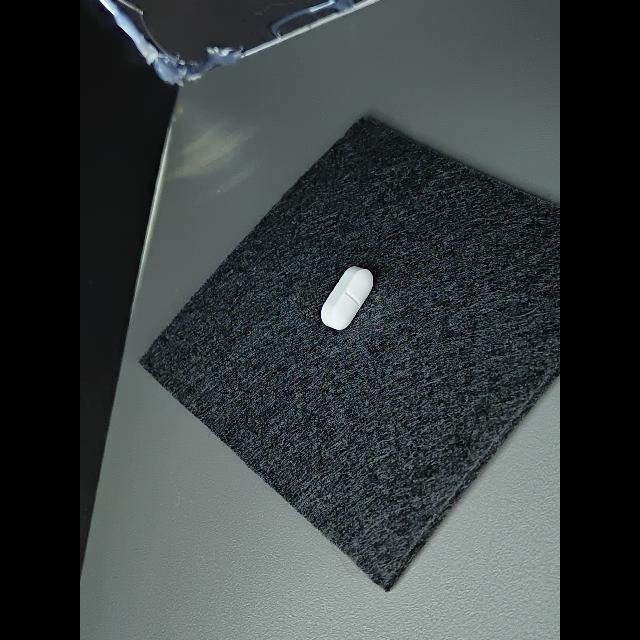Intact Pill: (321, 266, 373, 330)
